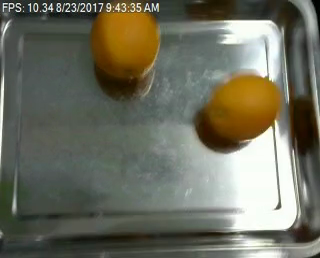Orange: (87, 1, 158, 80), (206, 74, 281, 141)
